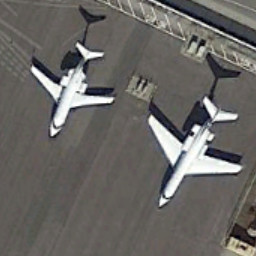Airplane: (143, 85, 247, 213), (24, 35, 119, 145)
